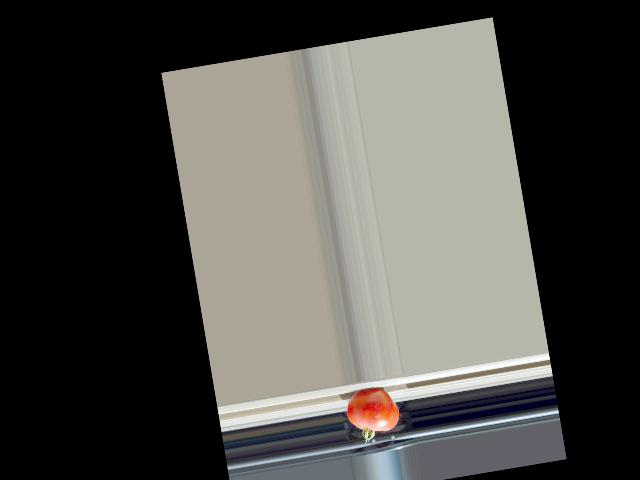tomato: (343, 385, 402, 445)
